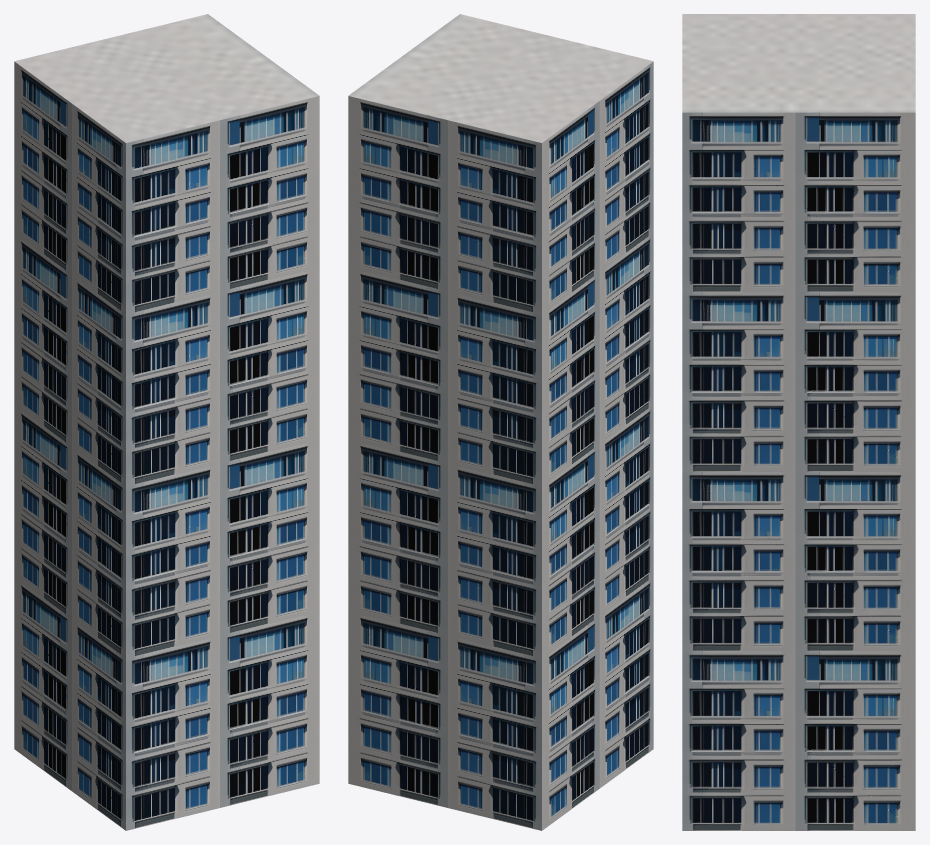
The picture shows the model from 3 angles, left to right: view 1: azimuth 30°, elevation 25°; view 2: azimuth 150°, elevation 25°; view 3: azimuth 270°, elevation 25°; orthographic projection. The views are drawn at different scales.
Visible parts, largest first — view 1: B6; view 2: B6; view 3: B6.
Boxes of the visible parts, x1,y1,x2,y2 form: B6: [14, 14, 319, 830]; B6: [348, 14, 653, 830]; B6: [682, 14, 915, 830].
Bounding box in the file's own units: 496 × 1683 × 496.
Materials: 1 (1 with a texture image).
